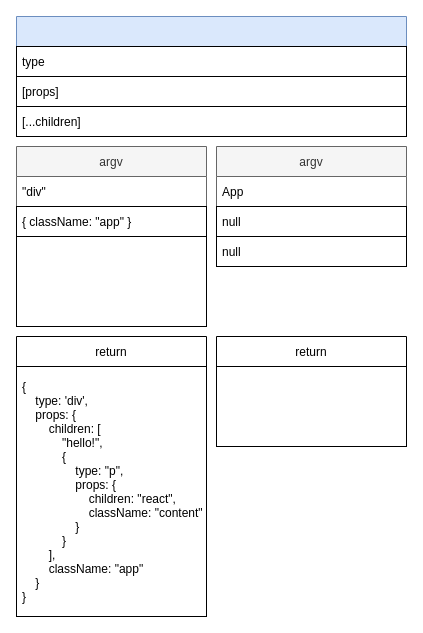
This 423x633 diagram has some shape labels left out. Here are the shapes that lost their labels. From the top down, the box of each, then its label:
(16, 16, 406, 136): React.createElement()
(16, 236, 206, 326): "hello!", React.createElement( "p", { className: "content" }, "react" )
(216, 366, 406, 446): { type: type: f App(), props: {} }
